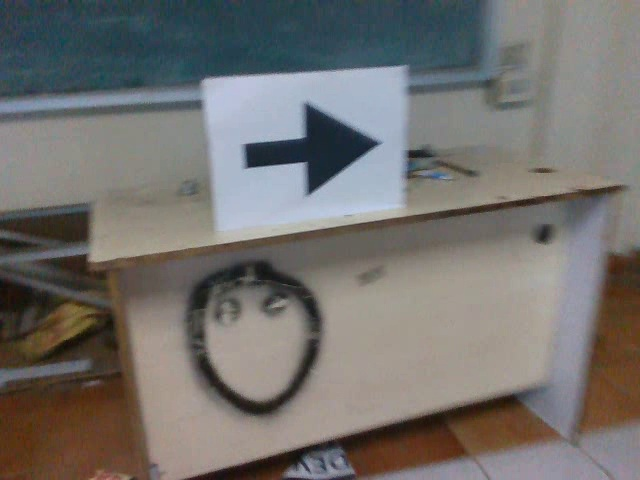Right: (233, 96, 382, 202)
